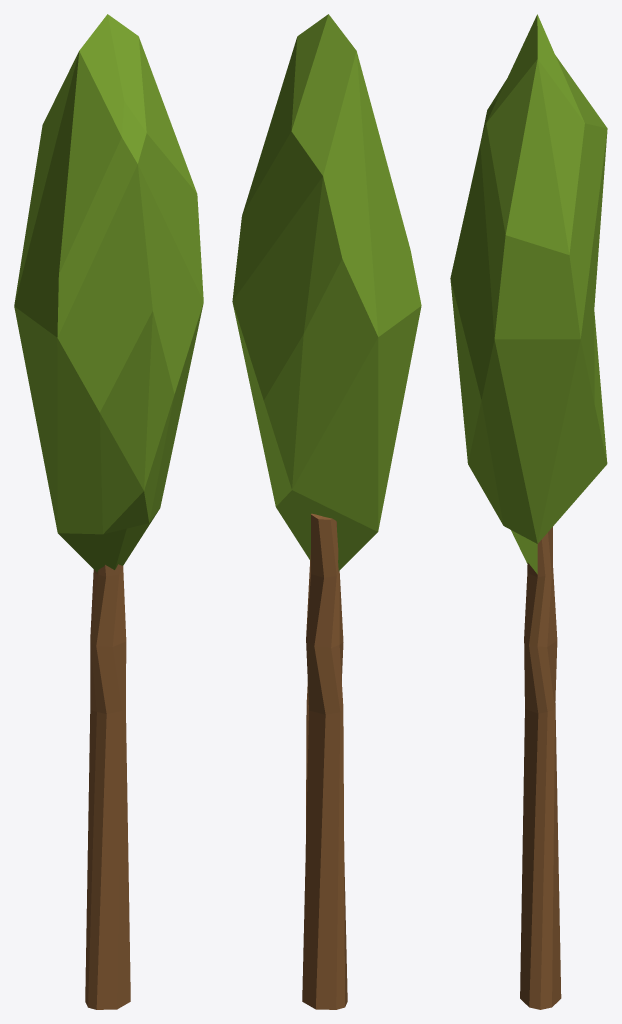
The model's file is Laubbaum I.fbx.
3 renders of one model, left to right at view 1: azimuth 30°, elevation 25°; view 2: azimuth 150°, elevation 25°; view 3: azimuth 270°, elevation 25°, orthographic.
Visible parts, largest first — view 1: Platonischer_Körper, Stammi; view 2: Platonischer_Körper, Stammi; view 3: Platonischer_Körper, Stammi.
Boxes of the visible parts, <box> form: Platonischer_Körper: <box>14,14,203,572</box>; Stammi: <box>85,564,130,1009</box>; Platonischer_Körper: <box>232,14,421,571</box>; Stammi: <box>302,513,347,1009</box>; Platonischer_Körper: <box>450,14,607,573</box>; Stammi: <box>520,527,561,1009</box>.
Bounding box in the file's own units: 394 × 2547 × 368.
